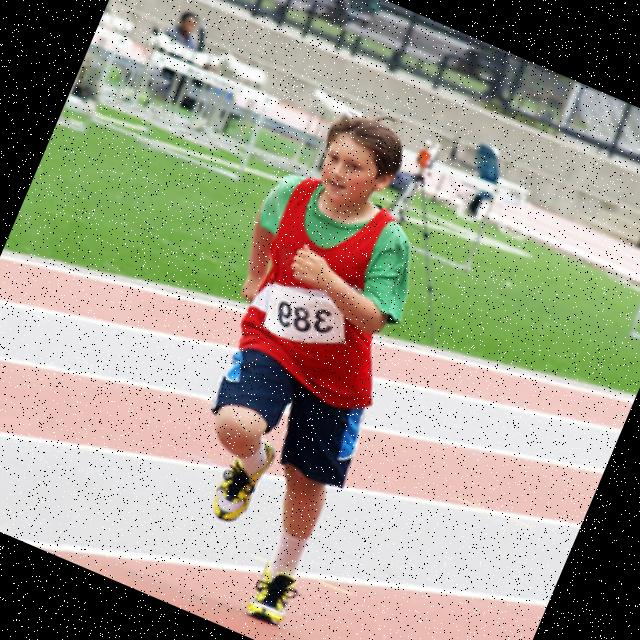Person: (110, 89, 482, 628)
